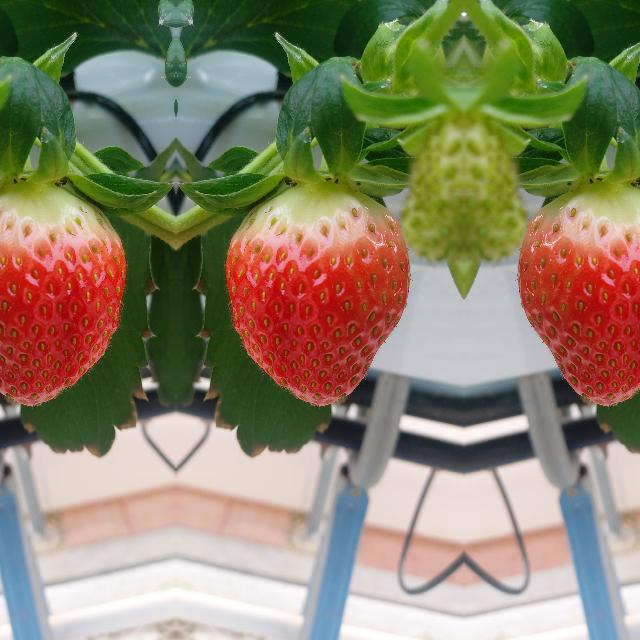Health_100: (222, 186, 412, 410), (0, 185, 128, 410), (514, 185, 640, 410)
